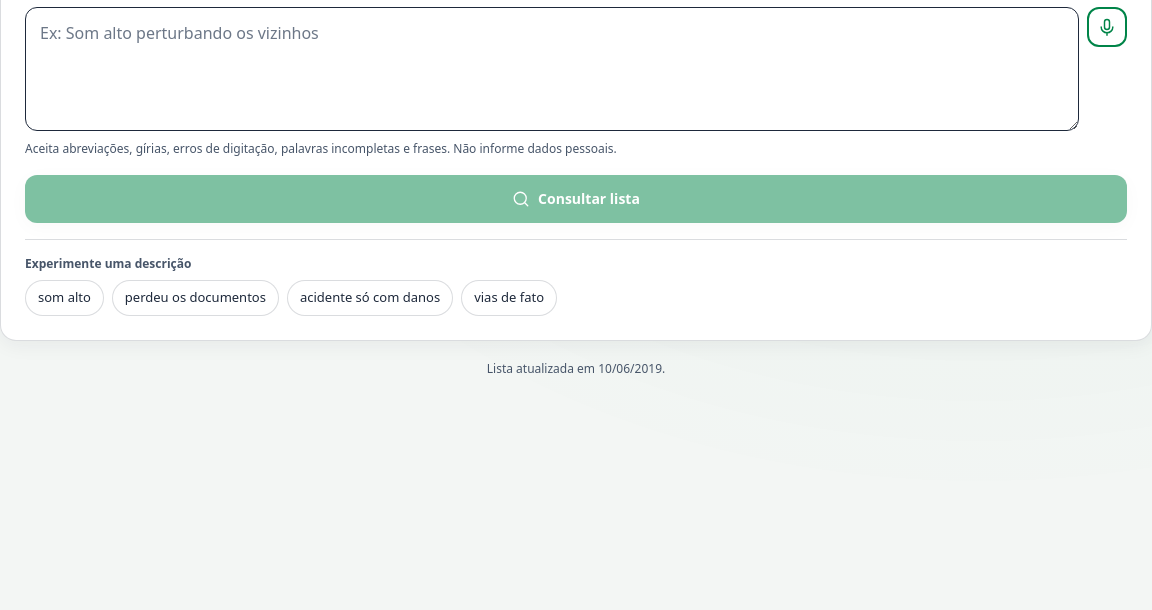
Test case: FatosPmscConsulta › mostra alternativas para conferência sem selecionar uma decisão
This screenshot has width=1152, height=610.
Type "som alto na casa do vizinho" into the text box labelled "Descreva o fato constatado" at coordinates (552, 69), box [25,7,1079,131]
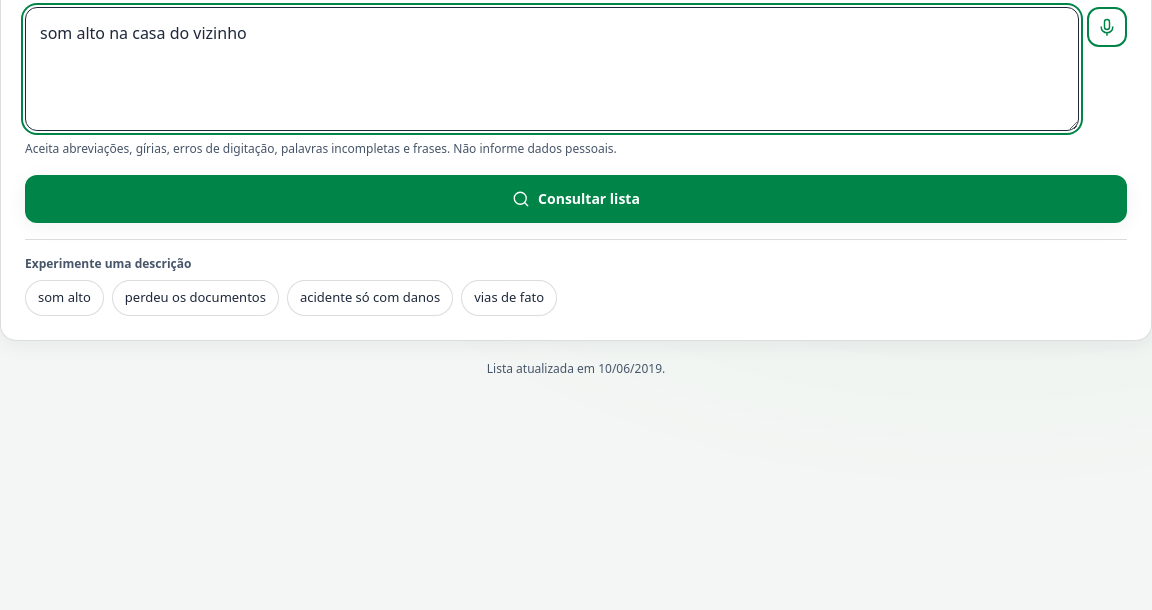
Click the button "Consultar lista" at coordinates (576, 198), box [25,174,1127,222]
(page scrolled)
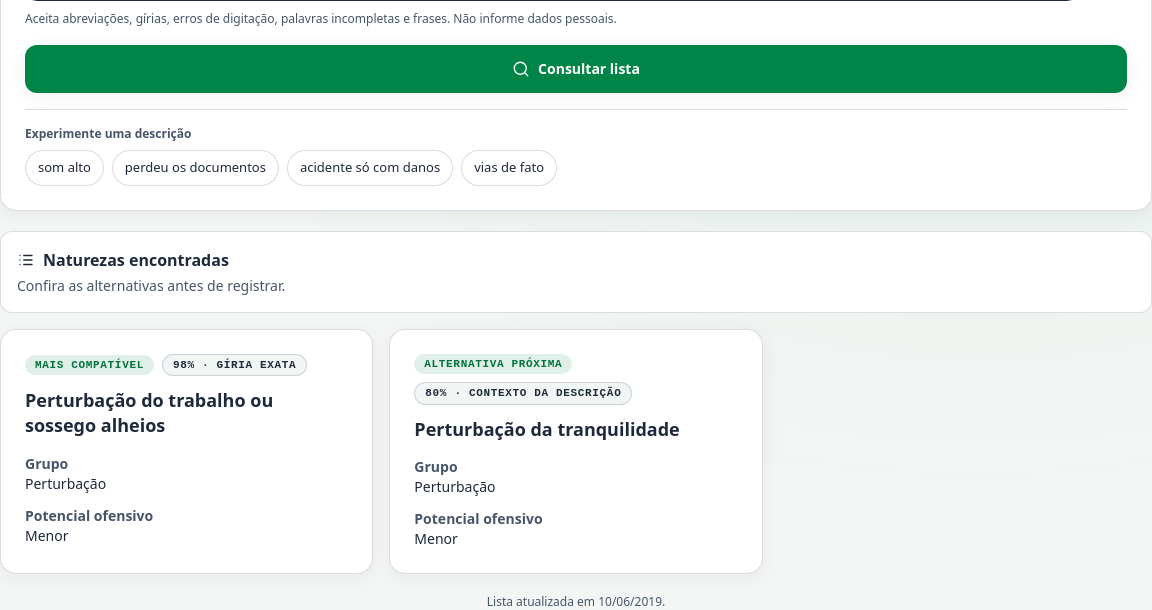
Now the heading "Perturbação do trabalho ou sossego alheios" is shown, box [25,388,273,437]
Now the heading "Perturbação da tranquilidade" is shown, box [414,416,680,440]
Now the text "Confira as alternativas antes de registrar." is shown, box [17,276,285,294]
